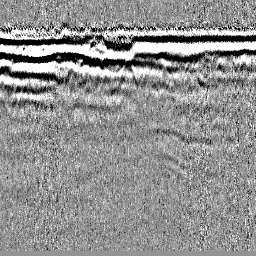cavity: (117, 61, 138, 88)
